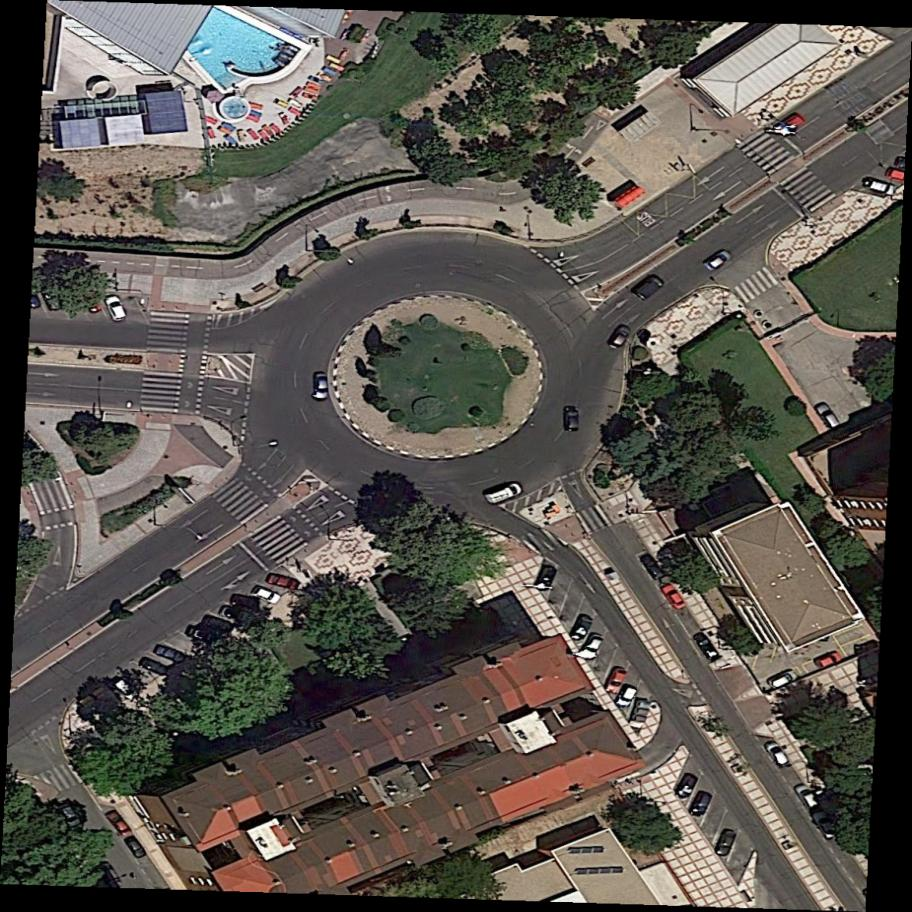small-vehicle: (483, 480, 525, 505), (76, 283, 105, 316), (694, 629, 721, 662), (634, 276, 664, 305), (764, 740, 792, 771), (39, 282, 64, 316), (533, 563, 559, 593), (98, 859, 123, 890), (602, 666, 627, 697), (201, 613, 236, 635), (794, 782, 819, 812), (55, 798, 80, 828), (187, 624, 220, 646), (662, 583, 687, 612), (813, 809, 838, 838), (714, 826, 737, 857), (107, 810, 132, 838), (816, 402, 841, 430), (607, 324, 631, 353), (251, 584, 282, 606), (640, 553, 664, 581), (113, 677, 141, 701), (779, 111, 807, 135), (580, 631, 603, 660), (689, 790, 711, 820), (571, 612, 592, 643), (705, 251, 733, 274), (104, 294, 126, 323), (675, 773, 697, 801), (616, 682, 638, 709), (153, 646, 182, 666), (123, 836, 146, 861), (267, 572, 300, 589), (220, 604, 252, 621), (769, 672, 798, 690), (141, 657, 167, 677), (816, 650, 842, 669), (311, 373, 329, 400), (231, 594, 261, 609), (866, 178, 894, 194), (565, 410, 579, 431), (222, 120, 237, 133), (323, 66, 340, 77), (225, 133, 238, 146), (244, 113, 260, 123), (201, 114, 217, 124), (247, 128, 259, 141), (361, 29, 372, 43), (245, 108, 262, 117), (330, 62, 345, 72), (318, 71, 333, 81), (247, 101, 263, 110), (263, 125, 275, 137), (310, 75, 326, 84), (279, 112, 290, 125), (340, 47, 350, 61), (327, 55, 342, 64), (306, 81, 321, 90), (257, 129, 268, 141), (291, 87, 303, 98), (218, 125, 231, 135), (206, 127, 216, 140), (303, 92, 317, 101), (289, 99, 302, 108), (289, 107, 301, 116), (238, 129, 246, 142), (271, 123, 281, 133), (275, 99, 287, 107), (306, 86, 318, 94)
